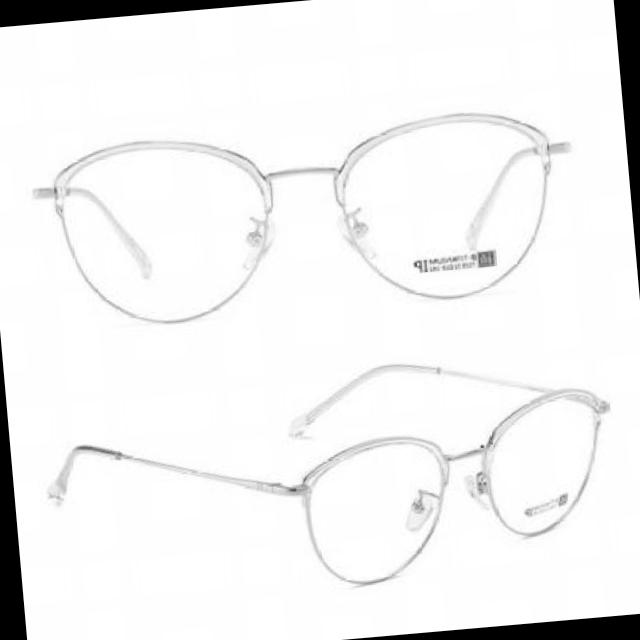glasses: (40, 344, 622, 612), (28, 104, 584, 336)
